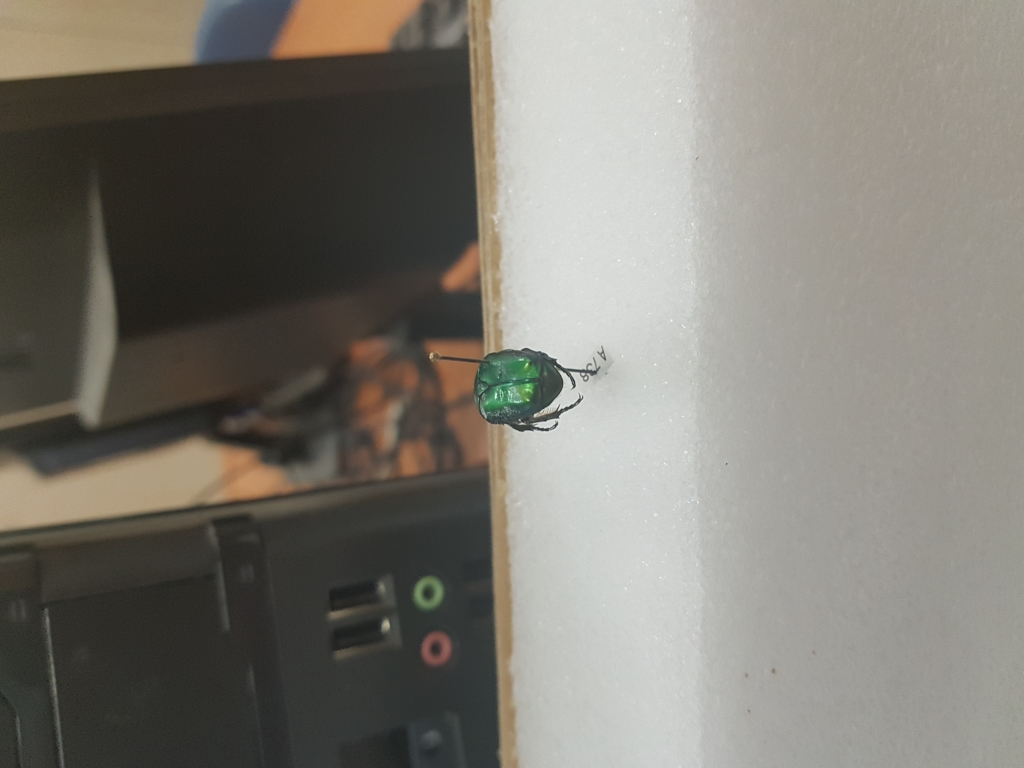Protaetia_cuprea_ignicollis: (468, 339, 589, 435)
